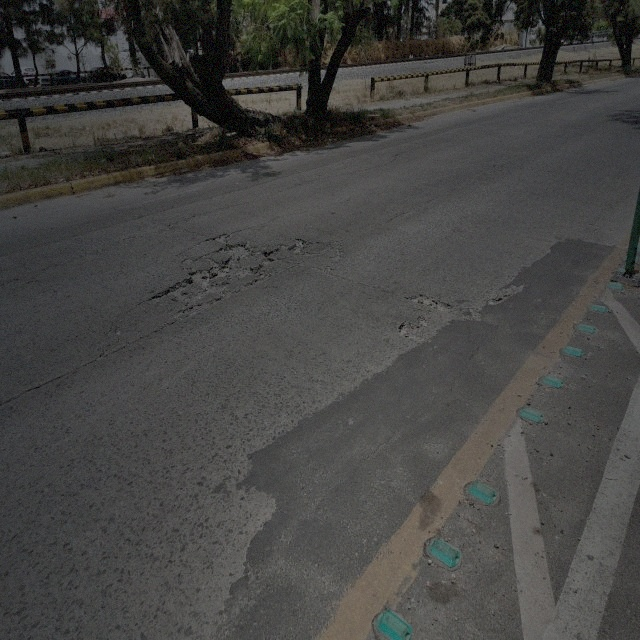pothole: (410, 293, 452, 312), (479, 288, 516, 309), (226, 238, 249, 267), (159, 281, 188, 303), (192, 264, 215, 288), (397, 316, 420, 336), (293, 234, 308, 256), (260, 249, 274, 269), (210, 231, 233, 243)
